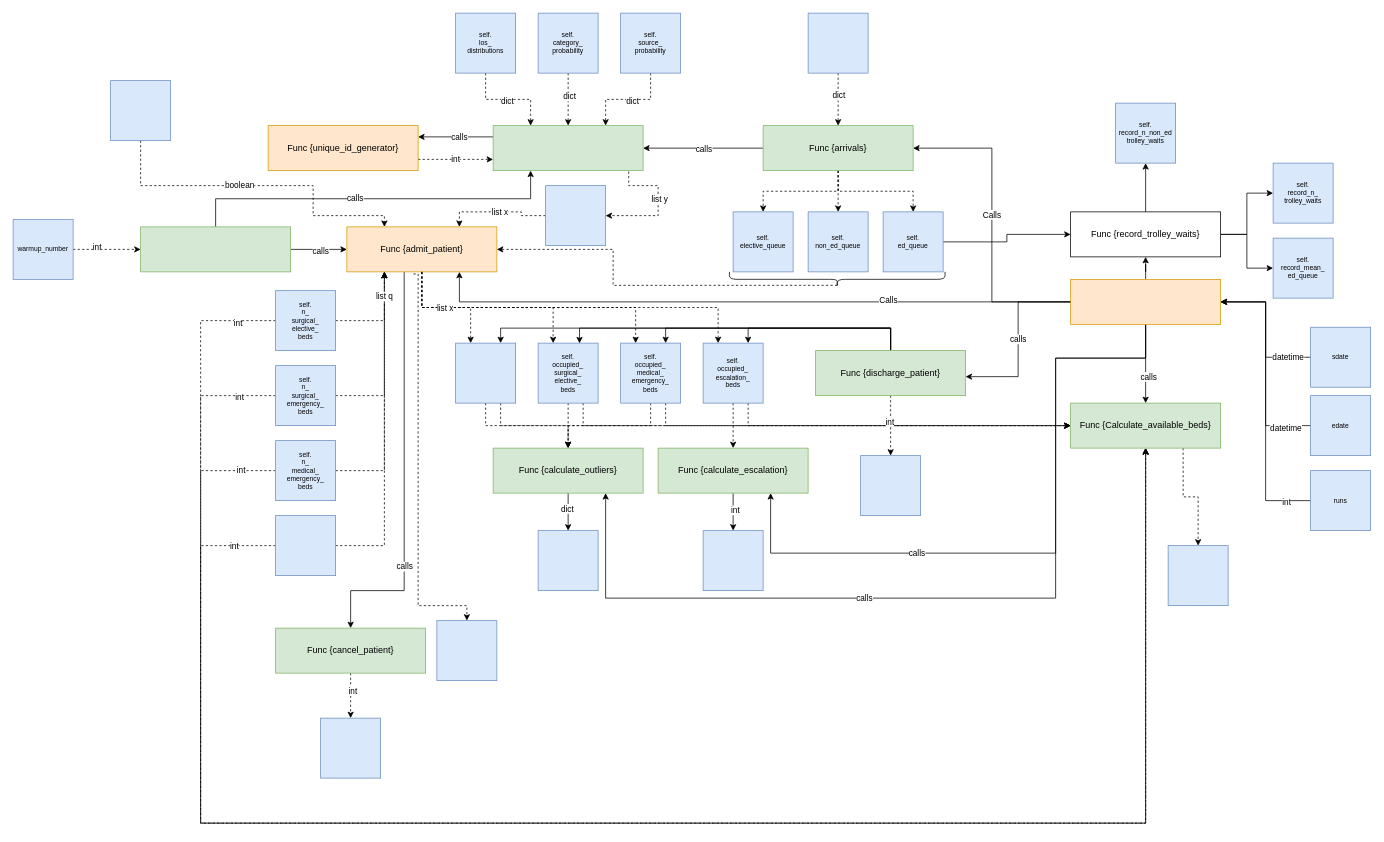
The diagram is 1384 pixels wide and 842 high, and some of its shapes have lost their labels. Each missing label, with the centre of its shape:
"Func {patient_generator }" belongs at point 567,148.
"Func {simulate_inpatient_system }" belongs at point 1145,301.
"Func {warm_up_model }" belongs at point 215,249.
"self. arrivals" belongs at point 837,42.
"self. n_ escalation_ beds" belongs at point 305,545.
"self. occupied_ surgical_ emergency_ beds" belongs at point 485,372.
"self. patient_master" belongs at point 575,215.
"self. record_ admissions_ by_ hour" belongs at point 466,650.
"self. record_ available_beds" belongs at point 1197,575.
"self. record_ discharges by_ hour" belongs at point 890,485.
"self. record_ n_ cancellations" belongs at point 350,747.
"self. record_ n_ escalation" belongs at point 732,560.
"self. record_ n_ outliers" belongs at point 567,560.
"warm" belongs at point 140,110.
